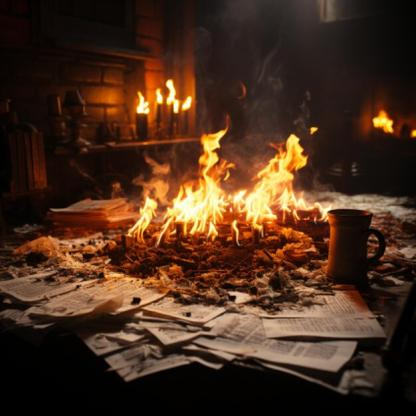fire: (125, 114, 333, 247)
